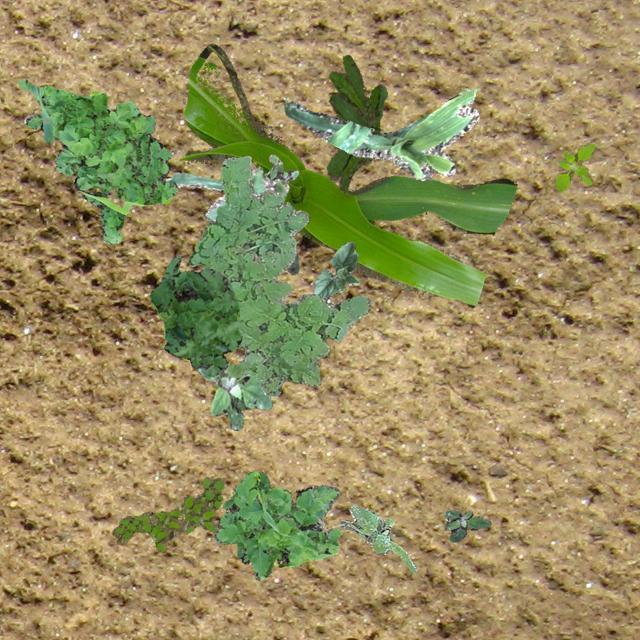crop: (180, 42, 516, 306), (284, 88, 478, 180), (164, 166, 298, 274), (312, 240, 358, 298)
weed: (188, 154, 370, 394), (17, 79, 176, 242), (212, 469, 340, 578), (148, 255, 240, 376), (110, 476, 222, 552), (326, 54, 386, 192), (337, 504, 415, 572), (196, 362, 272, 430), (236, 470, 268, 562), (554, 142, 596, 190), (444, 510, 489, 540), (264, 152, 298, 184)
